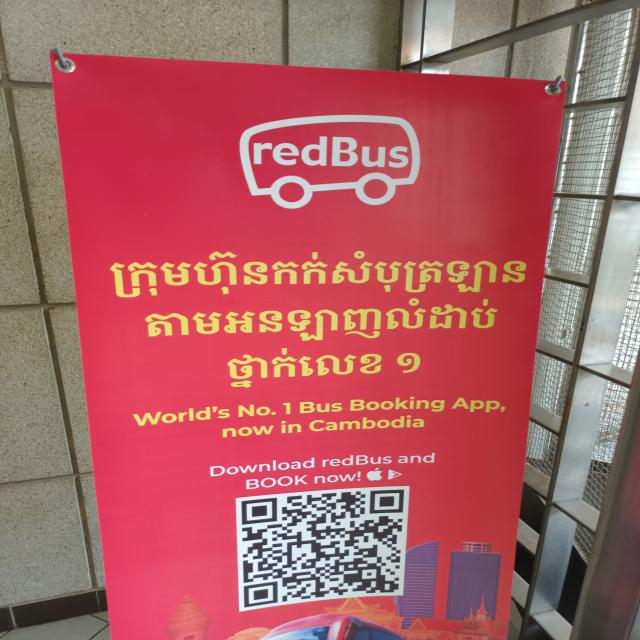Yolov11kh: (101, 246, 532, 305), (140, 295, 506, 343), (222, 343, 425, 391)
